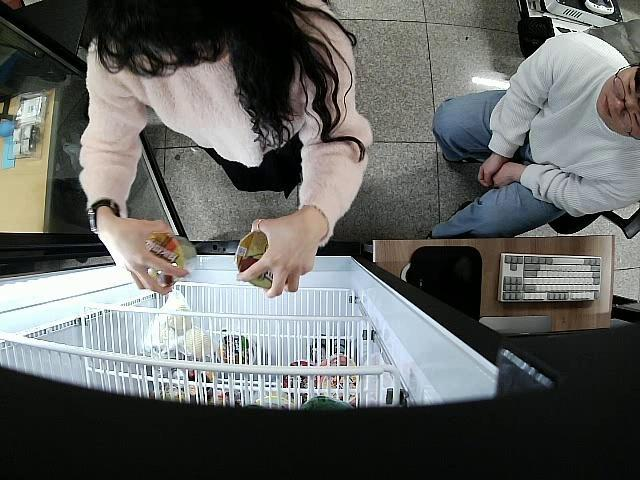04_chapagetti_S: (236, 230, 291, 288), (143, 234, 198, 288)
